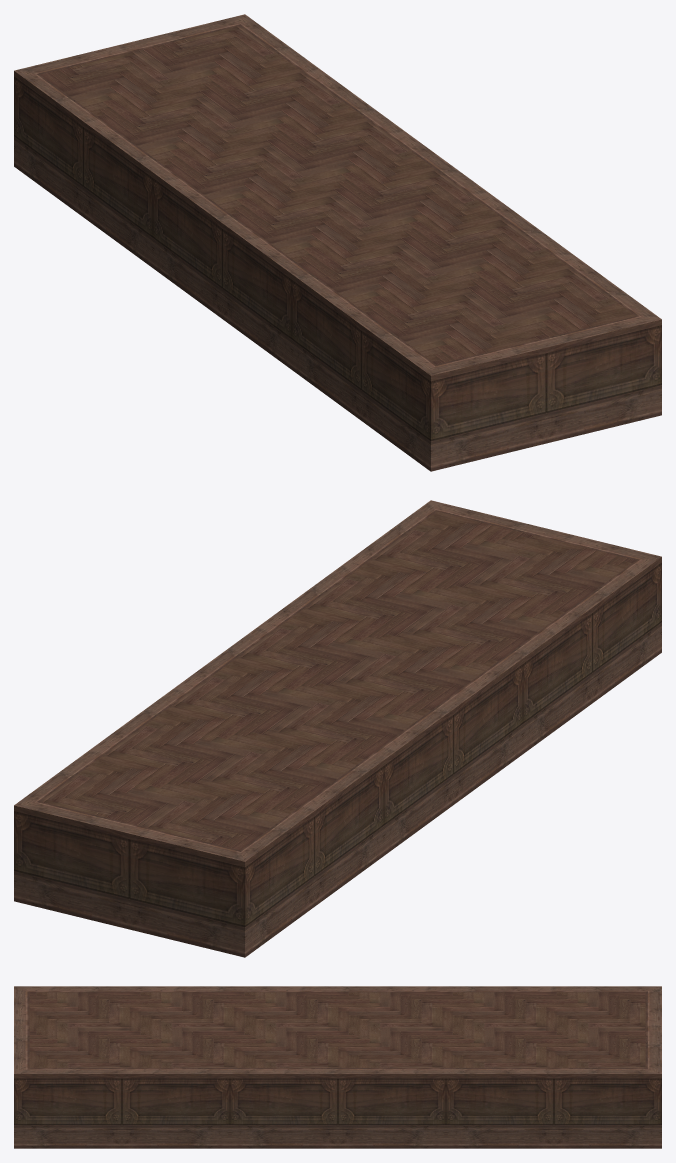
File: bg_lut_lucastle_houseinstage03_sm_ysi.FBX
3 renders of one model, top to bottom at view 1: azimuth 30°, elevation 25°; view 2: azimuth 150°, elevation 25°; view 3: azimuth 270°, elevation 25°, orthographic. The views are drawn at different scales.
Visible parts, largest first — view 1: bg_lut_lucastle_houseinstage03_sm_ysi; view 2: bg_lut_lucastle_houseinstage03_sm_ysi; view 3: bg_lut_lucastle_houseinstage03_sm_ysi.
Part boxes in pixels (x1,y1,x2,y2): bg_lut_lucastle_houseinstage03_sm_ysi: (14, 14, 661, 471); bg_lut_lucastle_houseinstage03_sm_ysi: (14, 500, 661, 957); bg_lut_lucastle_houseinstage03_sm_ysi: (14, 986, 661, 1148).
Bounding box in the file's own units: 363 × 144 × 1134.
